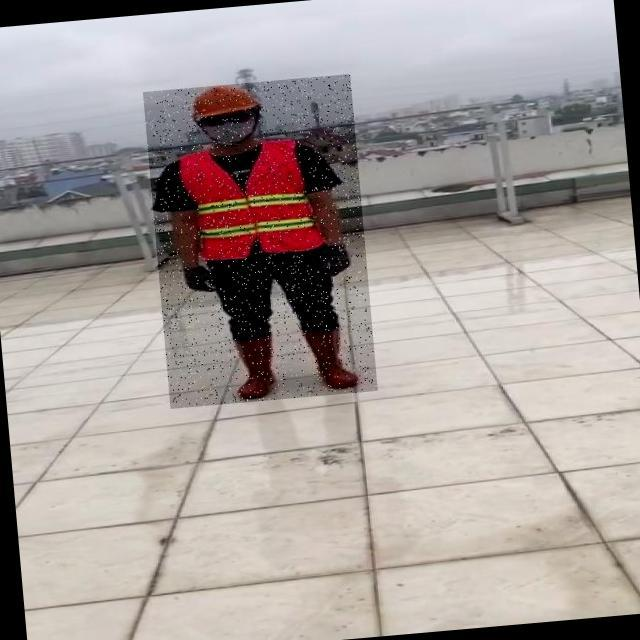Gloves: (312, 244, 353, 280), (181, 265, 223, 295)
Helmet: (184, 82, 261, 120)
Human: (143, 74, 378, 409)
Safety Boot: (301, 324, 362, 393), (227, 331, 283, 401)
Safety Vest: (178, 138, 325, 263)
